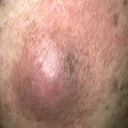Melanoma: (18, 34, 88, 119)
